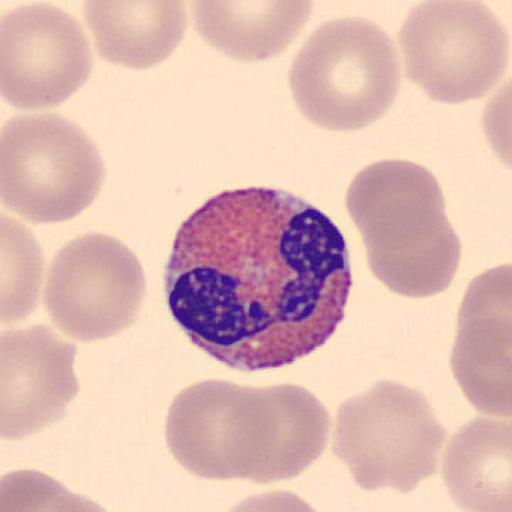RBC: (346, 157, 458, 300), (330, 376, 448, 496), (286, 15, 402, 133), (2, 112, 108, 226), (398, 0, 512, 106), (42, 231, 149, 343), (344, 156, 451, 264), (224, 380, 332, 486), (163, 376, 268, 484), (356, 198, 464, 300), (2, 1, 93, 112), (449, 260, 512, 420), (2, 324, 80, 440), (186, 0, 314, 63), (81, 1, 189, 71), (441, 414, 512, 512), (449, 316, 512, 419), (1, 467, 127, 512), (455, 260, 512, 356), (2, 213, 42, 327), (2, 467, 86, 512), (480, 77, 512, 172), (218, 488, 334, 512)
WBC: (163, 180, 353, 372)
